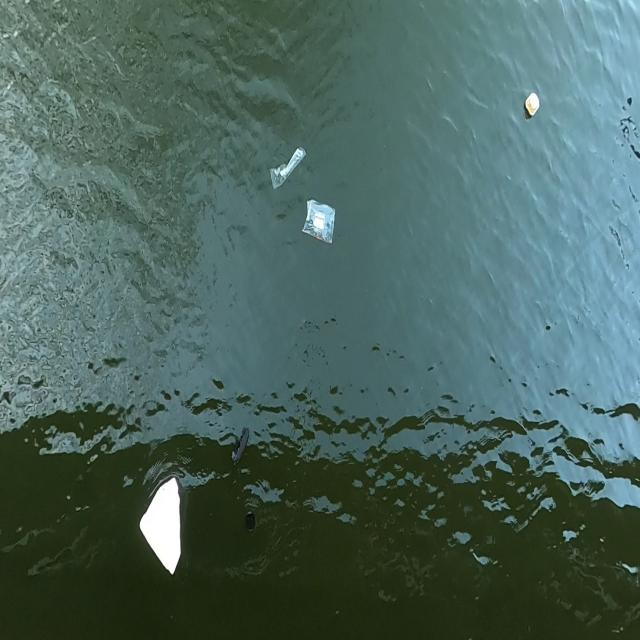Autre plastique: (136, 467, 190, 576)
Sac plastique: (264, 143, 312, 194), (296, 200, 342, 251)
